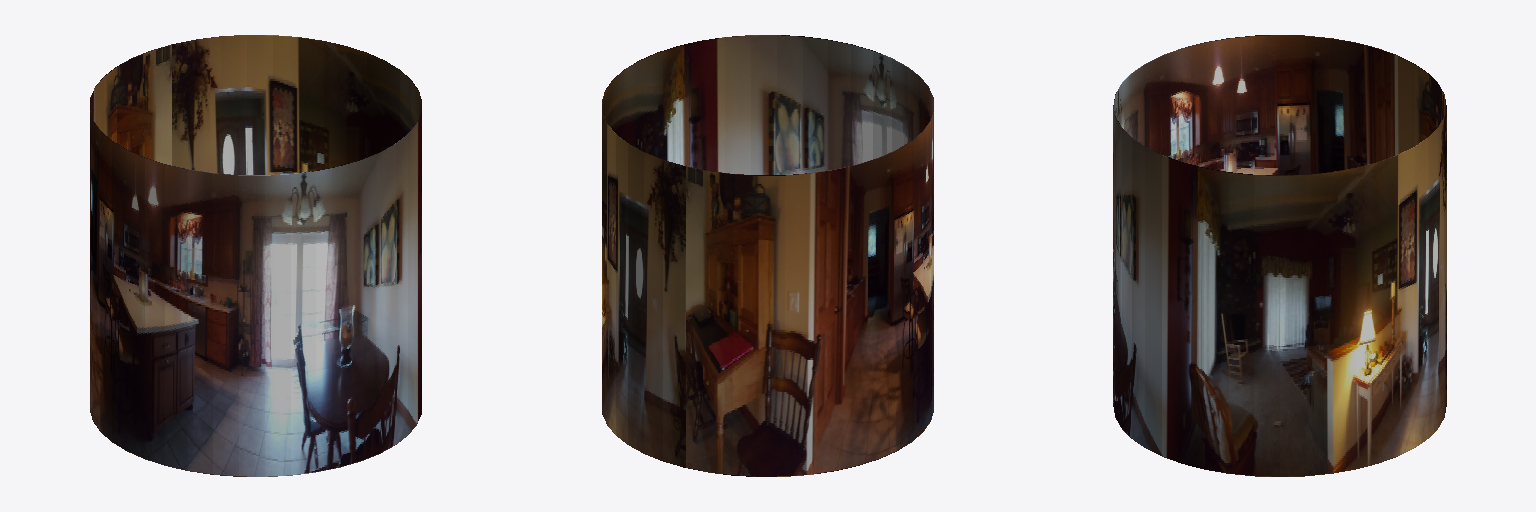
3 views of the same model, side by side, from view 1: azimuth 30°, elevation 25°; view 2: azimuth 150°, elevation 25°; view 3: azimuth 270°, elevation 25° (orthographic).
Visible parts, largest first — view 1: pCylinder1; view 2: pCylinder1; view 3: pCylinder1.
Boxes of the visible parts, <box> form: pCylinder1: <box>90,35,421,476</box>; pCylinder1: <box>602,35,933,476</box>; pCylinder1: <box>1113,35,1446,476</box>.
Bounding box in the file's own units: 10.65 × 10.65 × 10.65.
Materials: 1 (1 with a texture image).